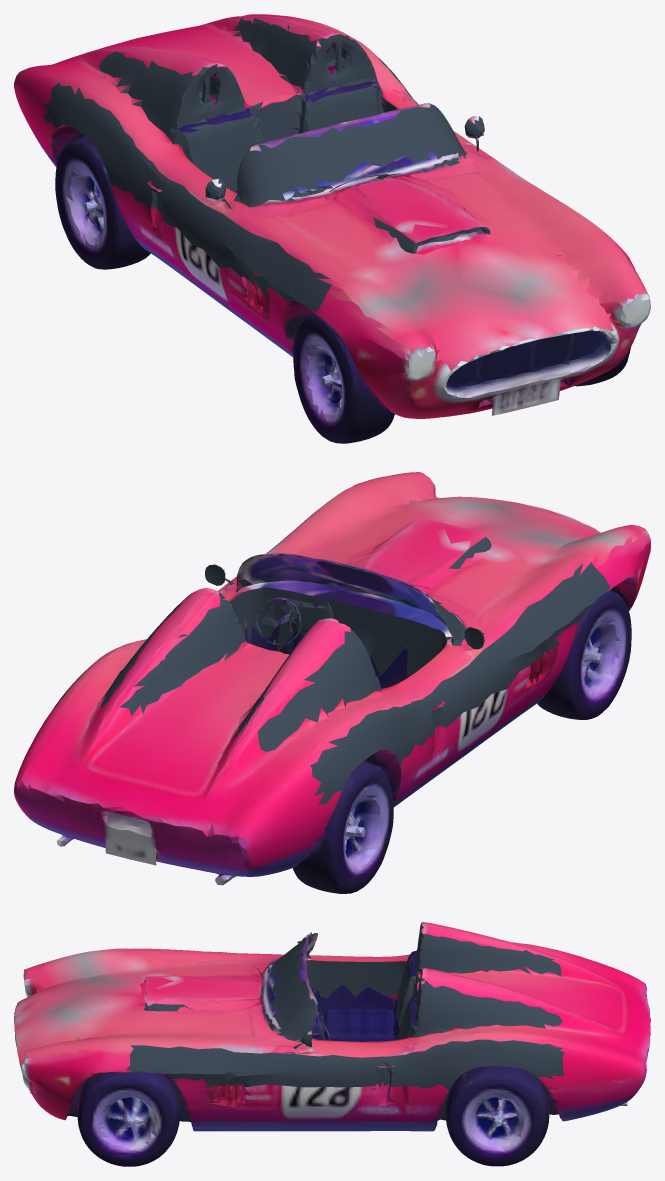
Rendered from vintagegp3.glb.
3 renders of one model, top to bottom at view 1: azimuth 30°, elevation 25°; view 2: azimuth 150°, elevation 25°; view 3: azimuth 270°, elevation 25°, orthographic. The views are drawn at different scales.
Parts seen in each view (by area): view 1: panel_hood, glass_panel_roof, panel_bumper_f, panel_trunk, glass_panel_trunk, panel_roof, wheel_rear_L, wheel_front_L, glass_panel_hood, panel_door_L, susp_front_L, glass_panel_door_L (+4 smaller); view 2: panel_trunk, panel_hood, glass_panel_trunk, panel_bumper_r, panel_roof, glass_panel_roof, wheel_rear_L, wheel_front_L, glass_panel_hood, panel_door_L, glass_panel_door_L, susp_rear_L (+4 smaller); view 3: panel_hood, panel_trunk, glass_panel_trunk, panel_door_R, glass_panel_roof, wheel_front_R, wheel_rear_R, panel_roof, panel_bumper_r, glass_panel_hood, glass_panel_door_R, panel_bumper_f (+6 smaller).
Boxes of the visible parts, x1,y1,x2,y2 form: panel_hood: (231,165,650,370); glass_panel_roof: (132,36,485,247); panel_bumper_f: (266,287,650,418); panel_trunk: (19,14,402,255); glass_panel_trunk: (42,18,407,191); panel_roof: (142,81,508,231); wheel_rear_L: (55,143,119,267); wheel_front_L: (293,317,357,441); glass_panel_hood: (231,208,490,311); panel_door_L: (124,181,261,333); susp_front_L: (241,293,463,443); glass_panel_door_L: (124,169,245,267); panel_trunk: (17,588,421,836); panel_hood: (266,472,650,735); glass_panel_trunk: (54,592,419,805); panel_bumper_r: (14,761,378,876); panel_roof: (145,553,508,704); glass_panel_roof: (205,554,522,720); wheel_rear_L: (330,767,393,893); wheel_front_L: (569,595,631,719); glass_panel_hood: (267,500,609,670); panel_door_L: (395,671,530,806); glass_panel_door_L: (409,639,526,745); susp_rear_L: (215,750,434,893); panel_hood: (14,948,281,1131); panel_trunk: (409,922,650,1130); glass_panel_trunk: (413,922,564,1089); panel_door_R: (235,1064,433,1131); glass_panel_roof: (247,924,424,1064); wheel_front_R: (81,1076,177,1166); wheel_rear_R: (449,1077,546,1166); panel_roof: (246,932,426,1057); panel_bumper_r: (470,983,650,1121); glass_panel_hood: (126,979,262,1088); glass_panel_door_R: (251,1061,429,1088); panel_bumper_f: (15,988,215,1131).
Size of the model in its own units: 1.66 by 1.18 by 4.
2 materials, 1 textured.
